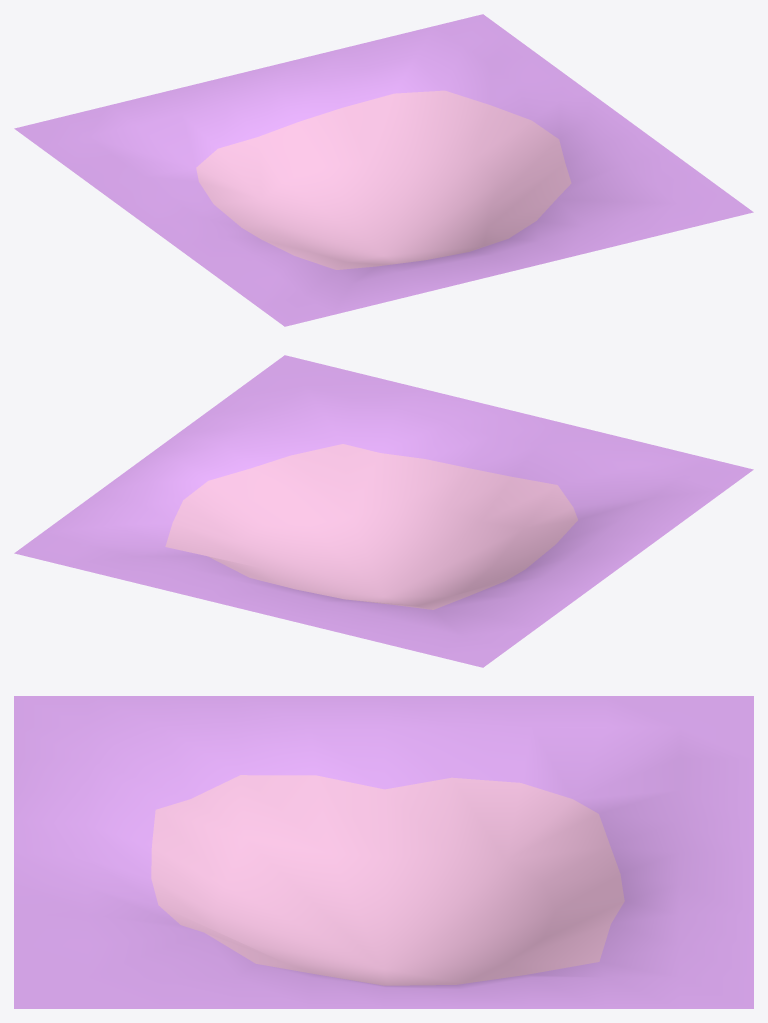
The model's file is POUND.fbx.
3 renders of one model, top to bottom at view 1: azimuth 30°, elevation 25°; view 2: azimuth 150°, elevation 25°; view 3: azimuth 270°, elevation 25°, orthographic. The views are drawn at different scales.
Parts seen in each view (by area): view 1: Pond; view 2: Pond; view 3: Pond.
Boxes of the visible parts, <box> form: Pond: <box>14,14,753,326</box>; Pond: <box>14,355,753,667</box>; Pond: <box>14,696,753,1008</box>.
Bounding box in the file's own units: 1563 × 271 × 1563.
